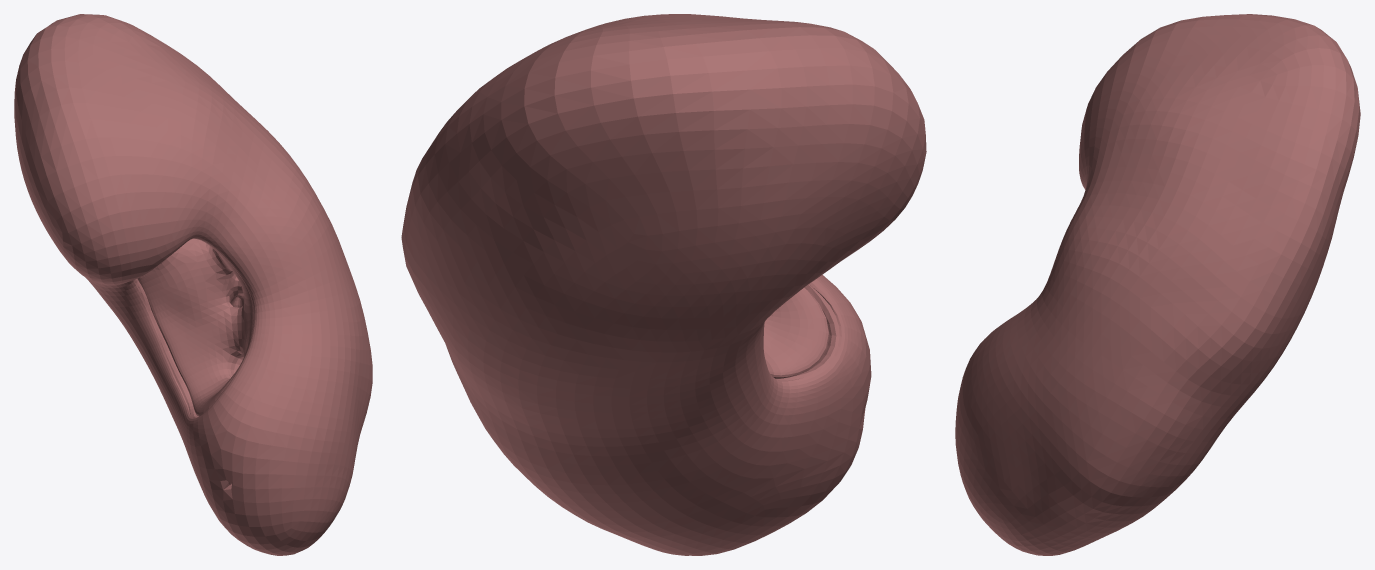
Rendered from kidney_left.glb.
3 renders of one model, left to right at view 1: azimuth 30°, elevation 25°; view 2: azimuth 150°, elevation 25°; view 3: azimuth 270°, elevation 25°, orthographic. The views are drawn at different scales.
Parts seen in each view (by area): view 1: kidney_left; view 2: kidney_left; view 3: kidney_left.
Part boxes in pixels (x1,y1,x2,y2): kidney_left: (14, 14, 372, 555); kidney_left: (401, 14, 926, 555); kidney_left: (955, 14, 1360, 555).
Bounding box in the file's own units: 0.0757 × 0.1065 × 0.0824.
